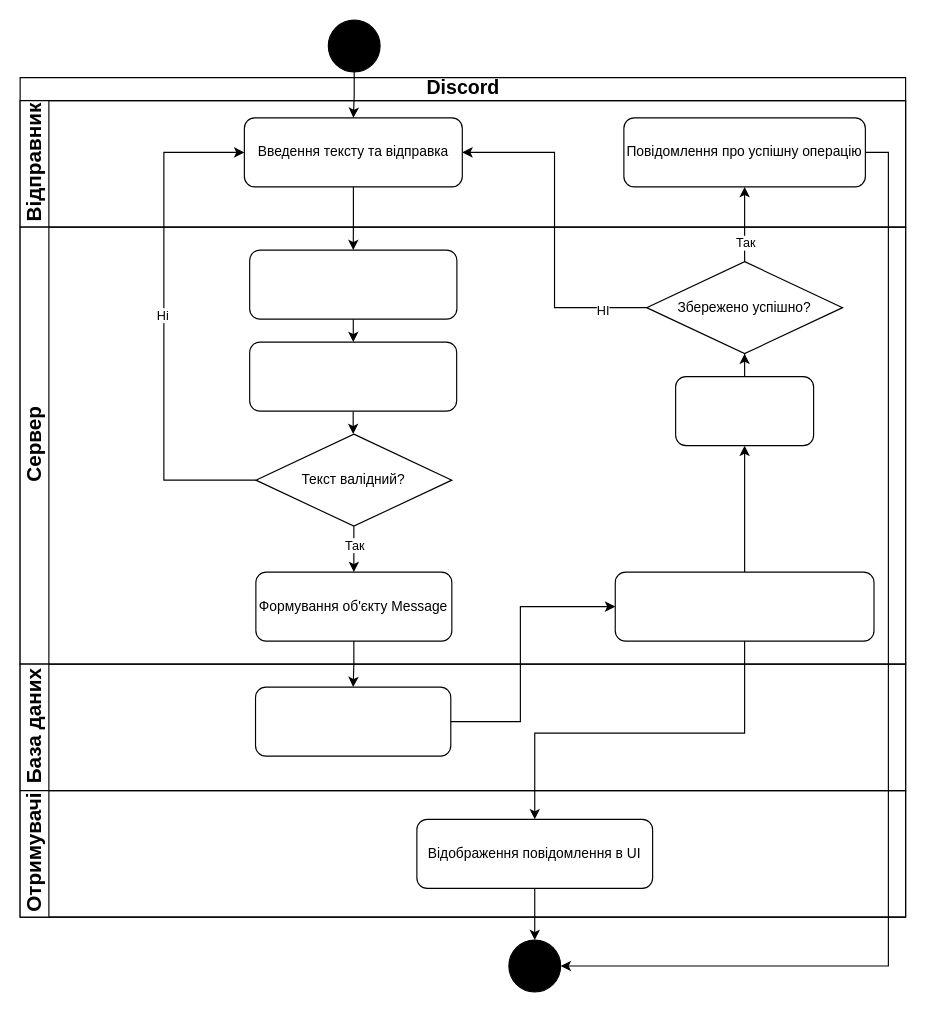
Some shapes in this 926 by 1012 pixel diagram are drawn without their labels. Each missing label, with the centre of its shape:
"Валідація та модерація вмісту" goes at point 353,376.
"Збереження в історії чату" goes at point 352,721.
"Отримання повідомлення" goes at point 353,284.
"Отримання списку активних учасників" goes at point 744,606.
"Отримання статусу про збереження повідомлення" goes at point 744,410.
